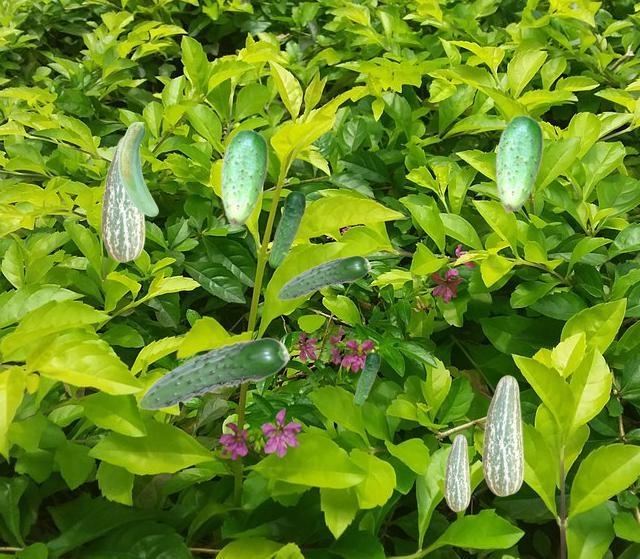cucumber: (138, 337, 289, 409), (101, 136, 144, 261), (482, 375, 523, 495), (220, 128, 267, 226), (495, 114, 542, 212), (276, 255, 370, 299), (118, 122, 157, 215), (268, 191, 305, 267), (444, 434, 469, 510), (353, 352, 379, 405)
